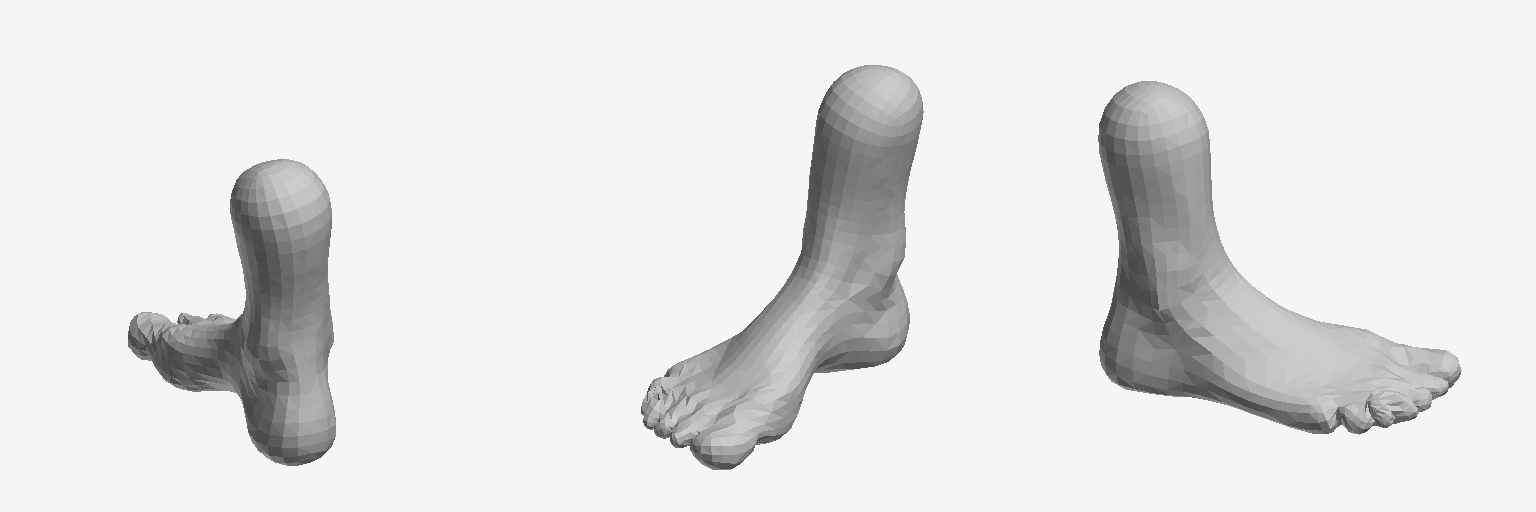
The model's file is foot.obj.
The picture shows the model from 3 angles: view 1: azimuth 30°, elevation 25°; view 2: azimuth 150°, elevation 25°; view 3: azimuth 270°, elevation 25°; orthographic projection.
Parts seen in each view (by area): view 1: mesh; view 2: mesh; view 3: mesh.
Part boxes in pixels (x1,y1,x2,y2): mesh: (128,159,335,465); mesh: (641,65,923,469); mesh: (1098,81,1461,434).
Bounding box in the file's own units: 0.5191 × 0.9059 × 0.9985.